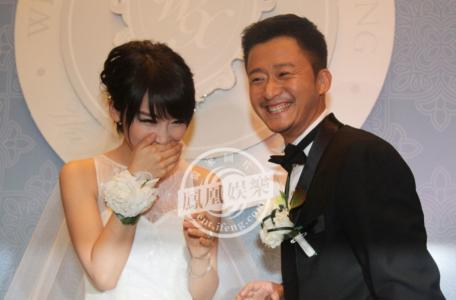face: (129, 101, 189, 159)
face_mask: (247, 43, 308, 132)
